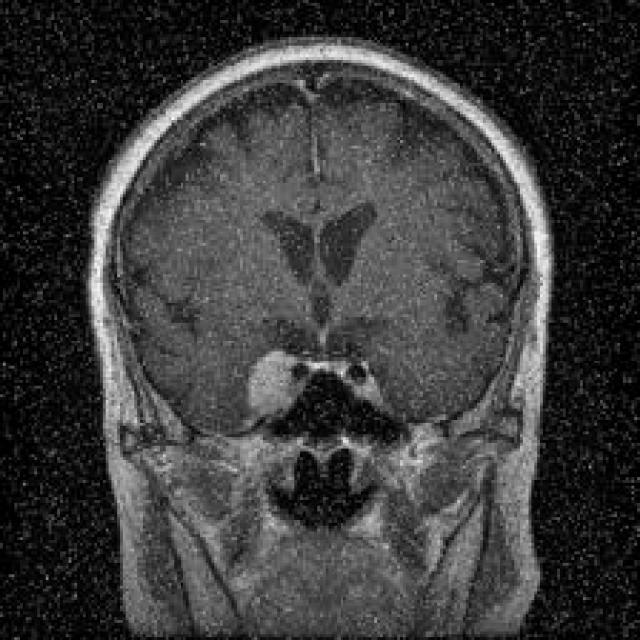meningioma_tumor: (234, 338, 336, 427)
